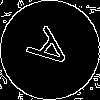A: (25, 25, 82, 80)
